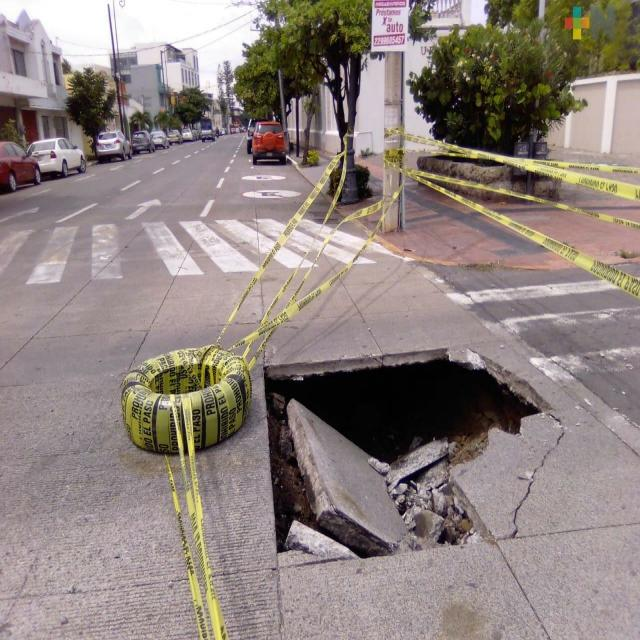Pothole: (244, 340, 582, 619)
